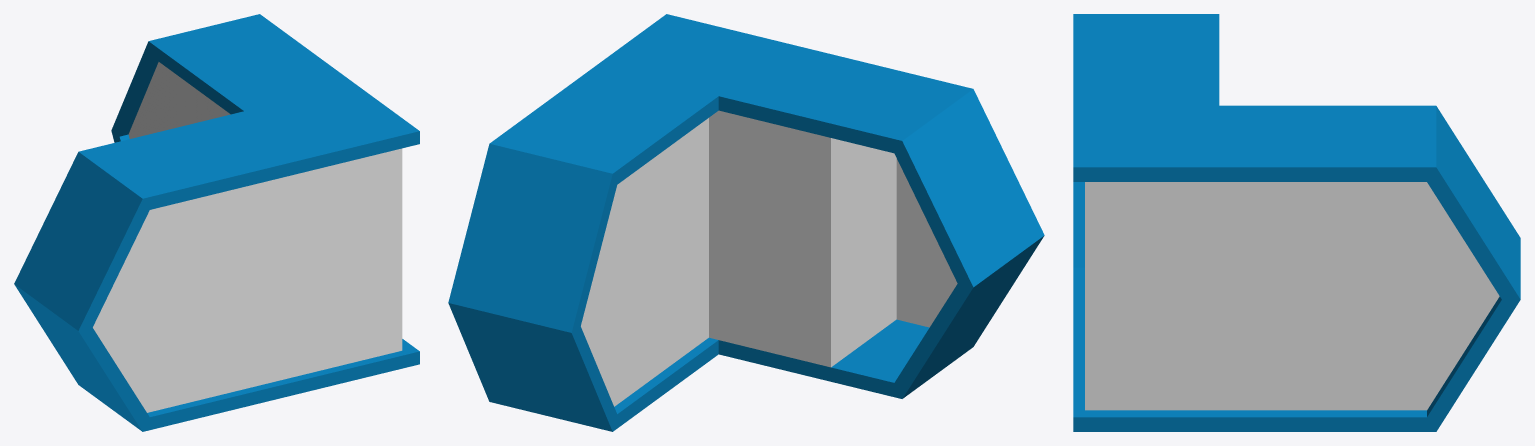
The model's file is Desk-Blue2.glb.
3 renders of one model, left to right at view 1: azimuth 30°, elevation 25°; view 2: azimuth 150°, elevation 25°; view 3: azimuth 270°, elevation 25°, orthographic. The views are drawn at different scales.
Parts seen in each view (by area): view 1: Group10.18, Group8.14, Group9.16, Group1.2, Group11.20, Group3.5, Group6.11, Group4.7; view 2: Group10.18, Group3.5, Group8.14, Group9.16, Group1.2, Group11.20, Group4.7, Group6.11, Group5.9; view 3: Group10.18, Group4.7, Group1.2, Group3.5, Group11.20, Group8.14, Group6.11, Group5.9.
Boxes of the visible parts, bbox=[...] form: Group10.18: bbox=[194, 88, 402, 399]; Group8.14: bbox=[14, 136, 206, 431]; Group9.16: bbox=[93, 197, 201, 412]; Group1.2: bbox=[185, 41, 419, 170]; Group11.20: bbox=[143, 84, 419, 195]; Group3.5: bbox=[111, 14, 296, 142]; Group6.11: bbox=[202, 339, 419, 416]; Group4.7: bbox=[128, 62, 194, 138]; Group10.18: bbox=[644, 110, 896, 384]; Group3.5: bbox=[448, 113, 653, 431]; Group8.14: bbox=[831, 71, 1044, 398]; Group9.16: bbox=[831, 138, 957, 367]; Group1.2: bbox=[531, 14, 789, 157]; Group11.20: bbox=[596, 14, 901, 137]; Group4.7: bbox=[581, 165, 643, 406]; Group6.11: bbox=[718, 340, 830, 381]; Group5.9: bbox=[638, 337, 718, 401]; Group10.18: bbox=[1085, 182, 1351, 410]; Group4.7: bbox=[1352, 182, 1499, 410]; Group1.2: bbox=[1073, 105, 1351, 181]; Group3.5: bbox=[1352, 105, 1520, 431]; Group11.20: bbox=[1073, 49, 1219, 181]; Group8.14: bbox=[1073, 14, 1219, 299]; Group6.11: bbox=[1073, 299, 1219, 431]; Group5.9: bbox=[1219, 410, 1364, 431].
Bounding box in the file's own units: 55.18 × 36.01 × 55.18.
